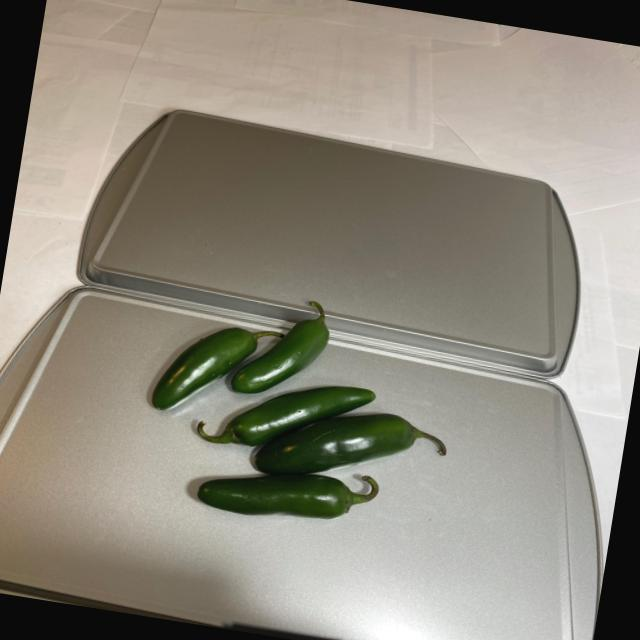chilli: (136, 280, 454, 560)
